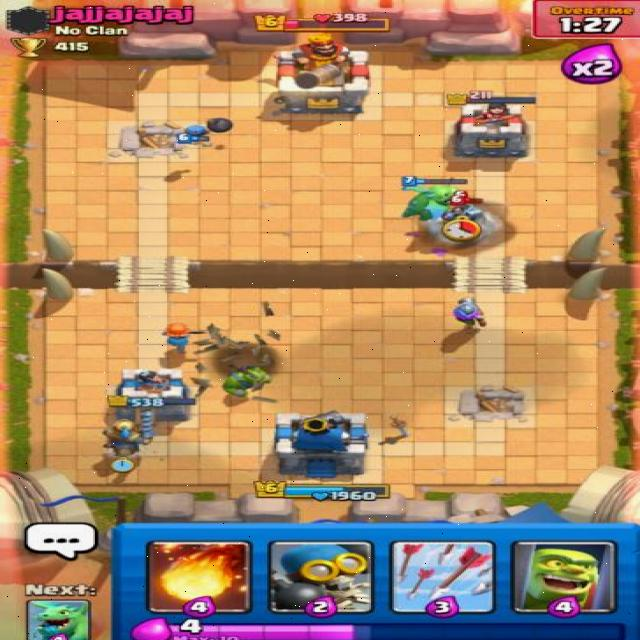Enemy-Minion: (438, 192, 487, 232), (444, 186, 486, 227)
Player-BabyDragon: (397, 173, 480, 220)
Player-Bomber: (174, 115, 236, 154)
Player-Brawler: (215, 364, 276, 400)
Player-Musketeer: (450, 294, 489, 333)
Player-Prince: (102, 403, 159, 464)
Player-Valkyrie: (158, 321, 199, 353)
